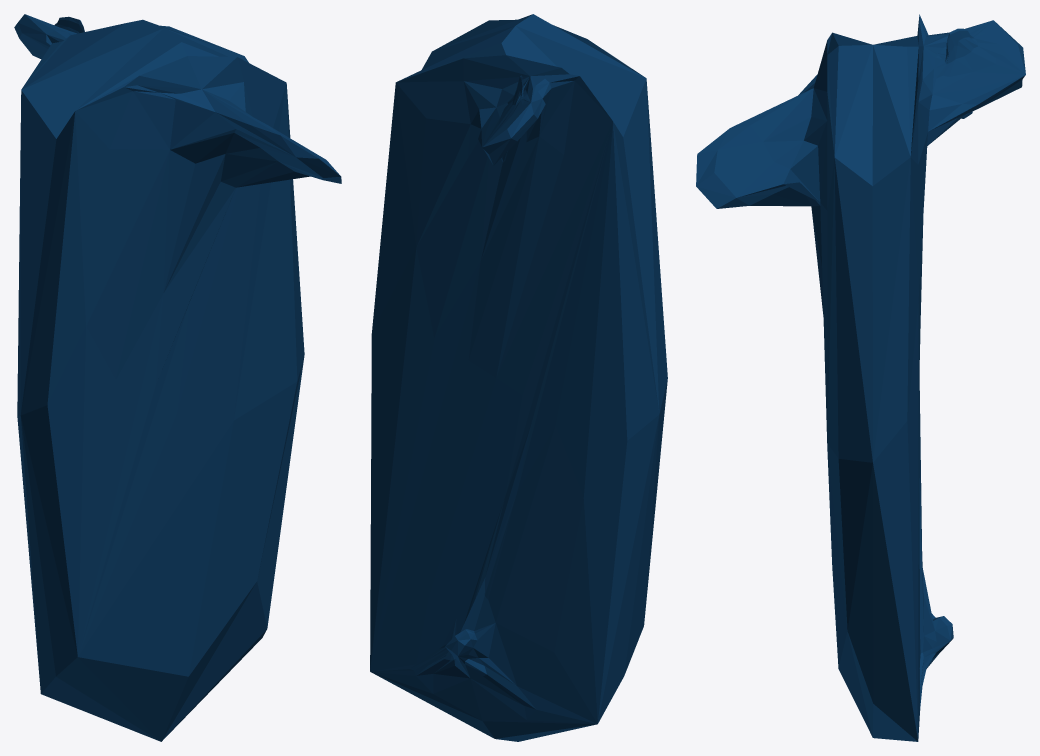
The picture shows the model from 3 angles, left to right: view 1: azimuth 30°, elevation 25°; view 2: azimuth 150°, elevation 25°; view 3: azimuth 270°, elevation 25°; orthographic projection. The views are drawn at different scales.
Visible parts, largest first — view 1: 425_Cube.1727; view 2: 425_Cube.1727; view 3: 425_Cube.1727.
Boxes of the visible parts, box(x1,y1,x2,y2) form: 425_Cube.1727: box(14, 14, 341, 741); 425_Cube.1727: box(370, 14, 667, 741); 425_Cube.1727: box(696, 14, 1025, 741).
Bounding box in the file's own units: 5.06 × 12.15 × 5.23.
